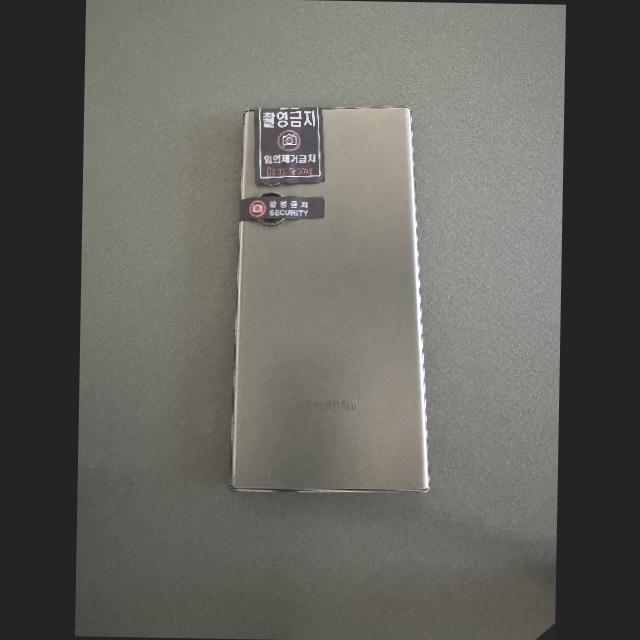lens: (259, 193, 282, 199)
phone: (230, 107, 428, 492)
sticker: (254, 107, 327, 186), (238, 196, 326, 221)
